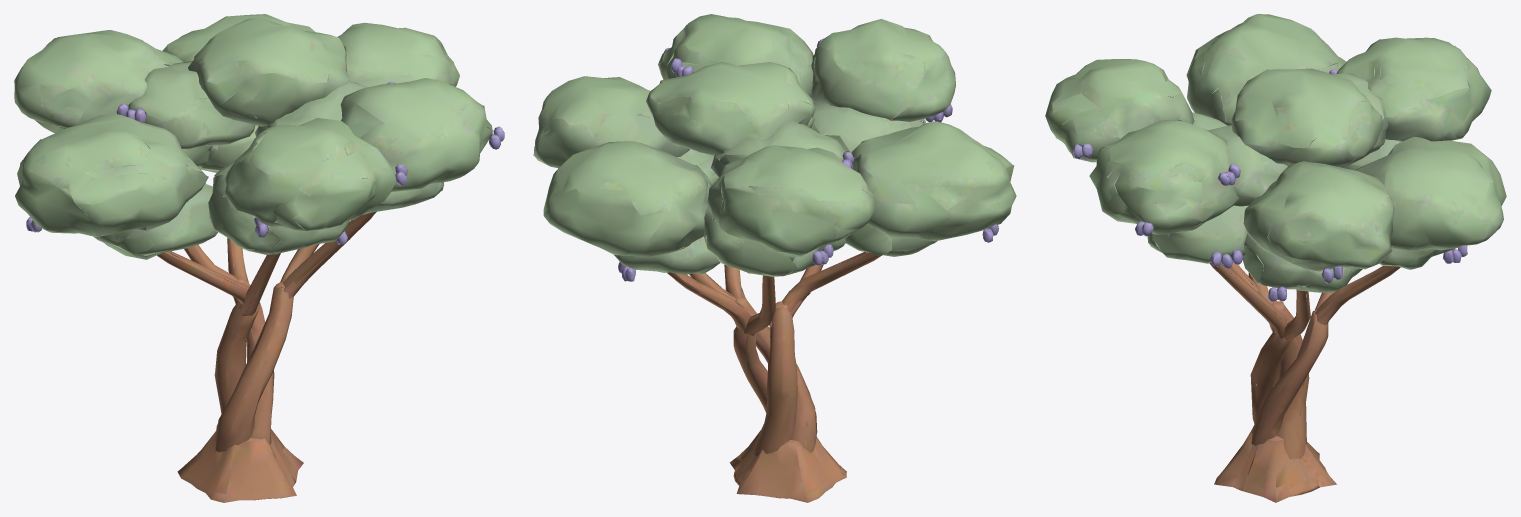
File: olive-tree.glb
The picture shows the model from 3 angles, left to right: view 1: azimuth 30°, elevation 25°; view 2: azimuth 150°, elevation 25°; view 3: azimuth 270°, elevation 25°; orthographic projection. The views are drawn at different scales.
Parts seen in each view (by area): view 1: olive-tree_body; view 2: olive-tree_body; view 3: olive-tree_body.
Boxes of the visible parts, box(x1,y1,x2,y2) form: olive-tree_body: box(14, 14, 504, 502); olive-tree_body: box(533, 14, 1016, 502); olive-tree_body: box(1045, 14, 1506, 502).
Bounding box in the file's own units: 4.33 × 3.85 × 3.93.
1 material, 1 textured.
